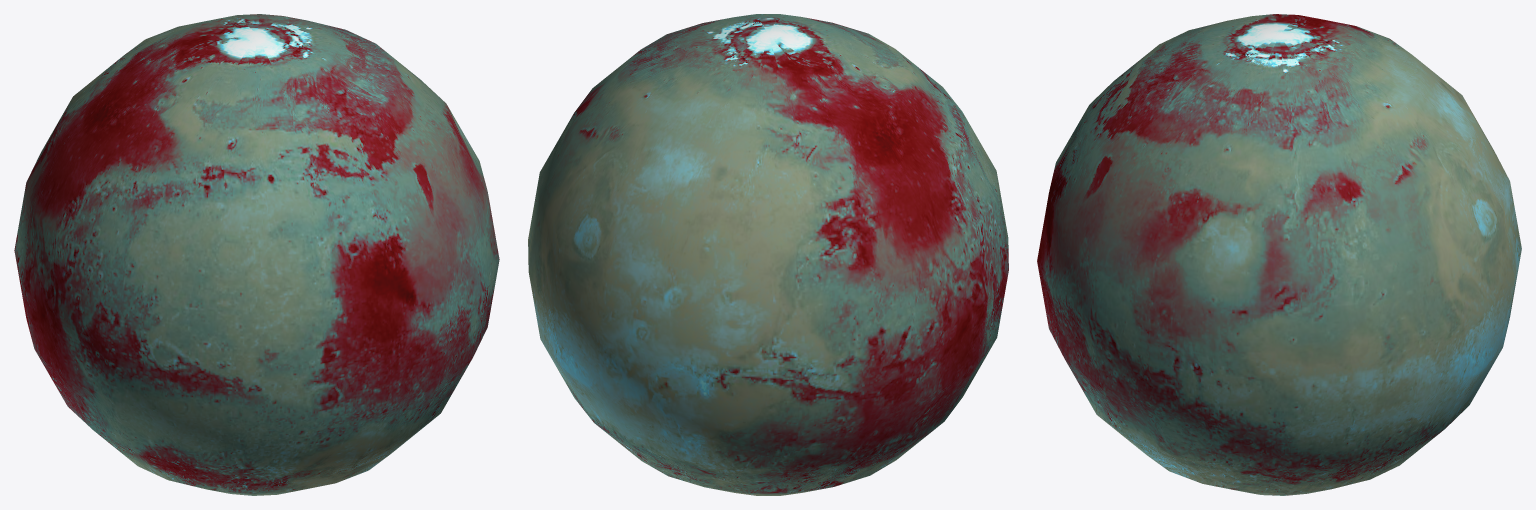
Rendered from Moon_of_big_planet.fbx.
3 renders of one model, left to right at view 1: azimuth 30°, elevation 25°; view 2: azimuth 150°, elevation 25°; view 3: azimuth 270°, elevation 25°, orthographic.
Parts seen in each view (by area): view 1: Moon_of_big_planet; view 2: Moon_of_big_planet; view 3: Moon_of_big_planet.
Boxes of the visible parts, <box> form: Moon_of_big_planet: <box>14,14,499,495</box>; Moon_of_big_planet: <box>528,14,1008,495</box>; Moon_of_big_planet: <box>1037,14,1521,495</box>.
Bounding box in the file's own units: 167 × 167 × 167.
Materials: 1 (1 with a texture image).
